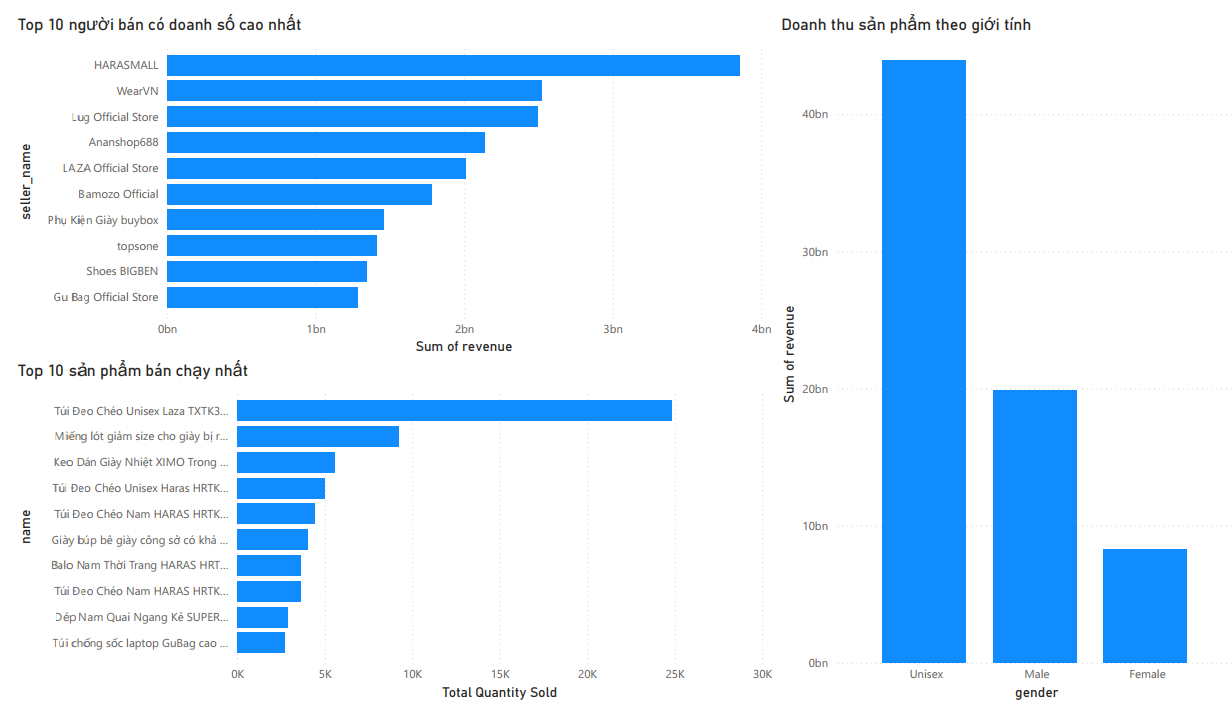

What the dashboard file says about the page in this screenshot:
{"tool":"powerbi","page":{"name":"Page 1","canvas":[1280,720],"ordinal":0},"visuals":[{"type":"clusteredBarChart","title":"Top 10 sản phẩm bán chạy nhất","fields":{"Y":["public DimProduct.Total Quantity Sold"],"Category":["public DimProduct.name"]},"box":[0,360,795.7,360],"z":1001},{"type":"clusteredBarChart","title":"Top 10 người bán có doanh số cao nhất","fields":{"Category":["public DimSeller.seller_name"],"Y":["Sum(public FactSales.revenue)"]},"box":[0,0,795.7,360],"z":1002},{"type":"clusteredColumnChart","title":"Doanh thu sản phẩm theo giới tính","fields":{"Category":["public DimGender.gender"],"Y":["Sum(public FactSales.revenue)"]},"box":[795.7,0,484.3,720],"z":1003}]}

Visuals, with their boxes on the page's 1280x720 design canvas (x1, y1, x2, y2). These are canvas units, not pixel positions in the 1232x715 screenshot, which may show the page scaled, cropped or inside an application window:
"Top 10 sản phẩm bán chạy nhất" clusteredBarChart: locate(0, 360, 796, 720)
"Top 10 người bán có doanh số cao nhất" clusteredBarChart: locate(0, 0, 796, 360)
"Doanh thu sản phẩm theo giới tính" clusteredColumnChart: locate(796, 0, 1280, 720)
